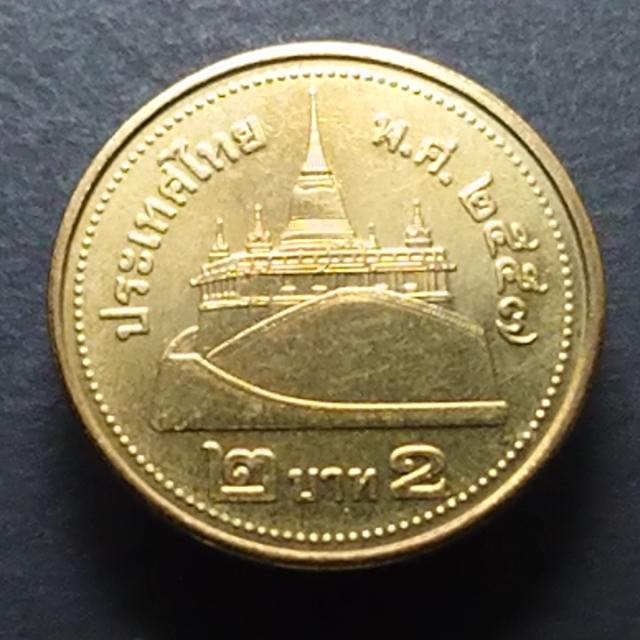2 Bath: (44, 40, 611, 583)
